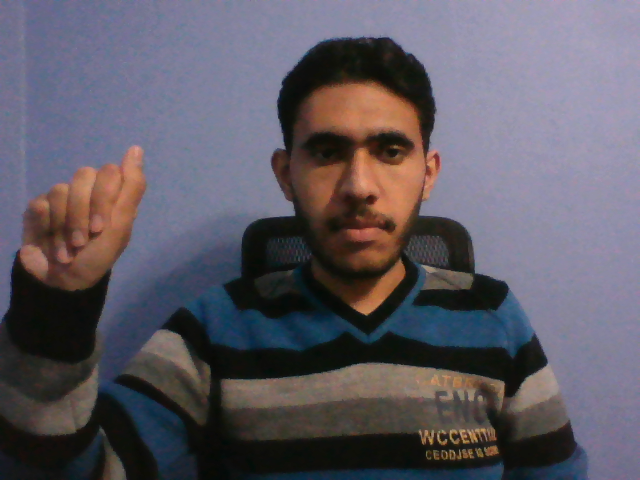A: (17, 143, 147, 290)
